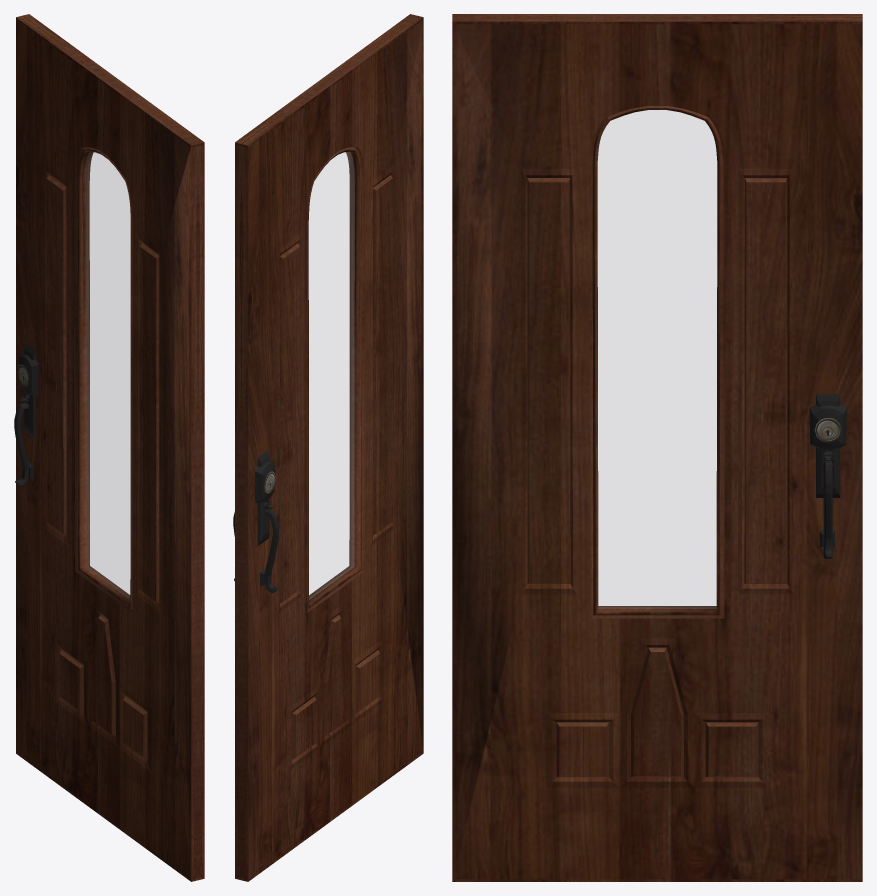
Rendered from door2.fbx.
3 renders of one model, left to right at view 1: azimuth 30°, elevation 25°; view 2: azimuth 150°, elevation 25°; view 3: azimuth 270°, elevation 25°, orthographic. The views are drawn at different scales.
Parts seen in each view (by area): view 1: Cube; view 2: Cube; view 3: Cube.
Boxes of the visible parts, x1,y1,x2,y2 form: Cube: [14, 14, 204, 881]; Cube: [233, 14, 423, 881]; Cube: [452, 14, 862, 881].
Size of the model in its own units: 28.89 by 463 by 200.
